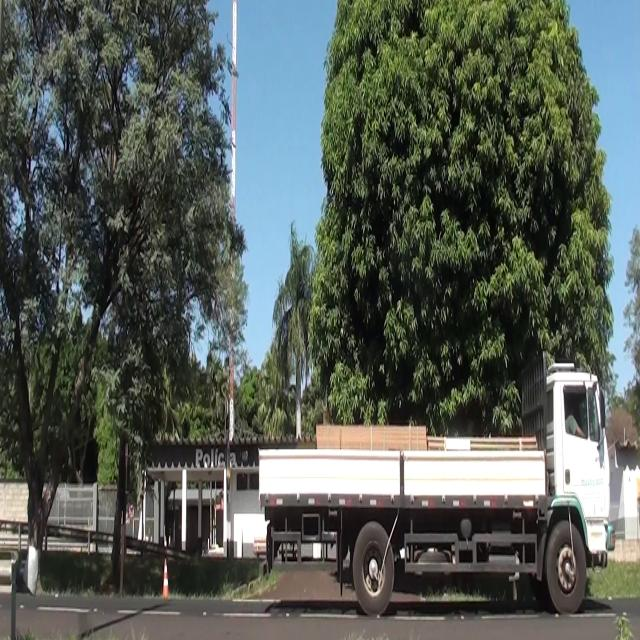-axle: (546, 519, 588, 617), (354, 521, 395, 614)
